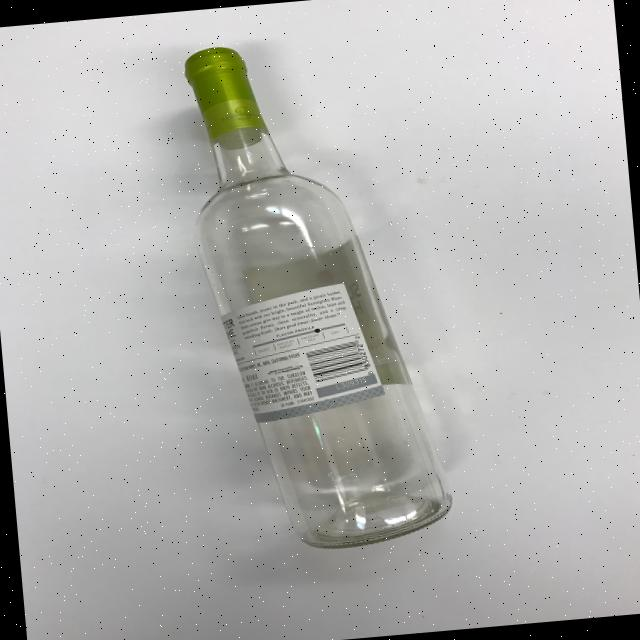glass: (176, 29, 457, 558)
